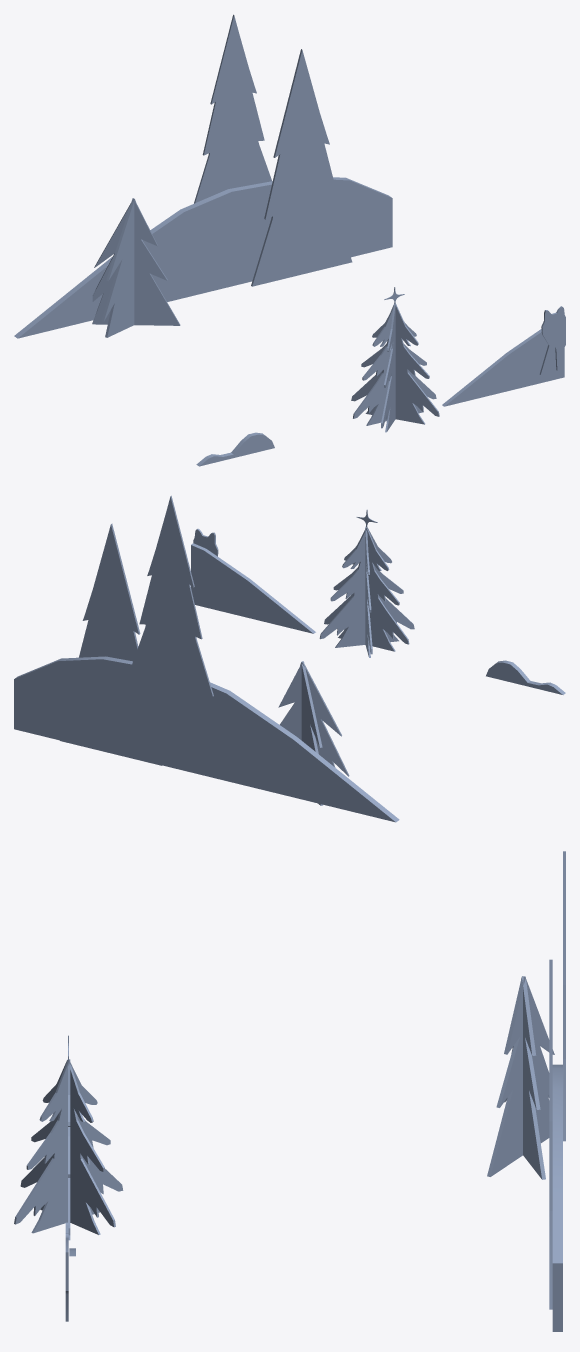
Rendered from frame_0043.glb.
3 renders of one model, top to bottom at view 1: azimuth 30°, elevation 25°; view 2: azimuth 150°, elevation 25°; view 3: azimuth 270°, elevation 25°, orthographic. The views are drawn at different scales.
Parts seen in each view (by area): view 1: export_trees_001.002; view 2: export_trees_001.002; view 3: export_trees_001.002.
Boxes of the visible parts, <box> form: export_trees_001.002: <box>14,14,565,466</box>; export_trees_001.002: <box>14,495,565,822</box>; export_trees_001.002: <box>14,851,565,1331</box>.
Bounding box in the file's own units: 0.3879 × 0.2681 × 0.3523.
